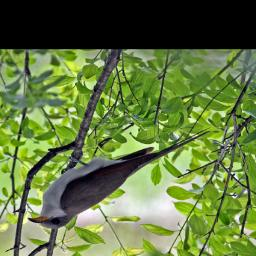Cuckoo: (25, 127, 208, 229)
